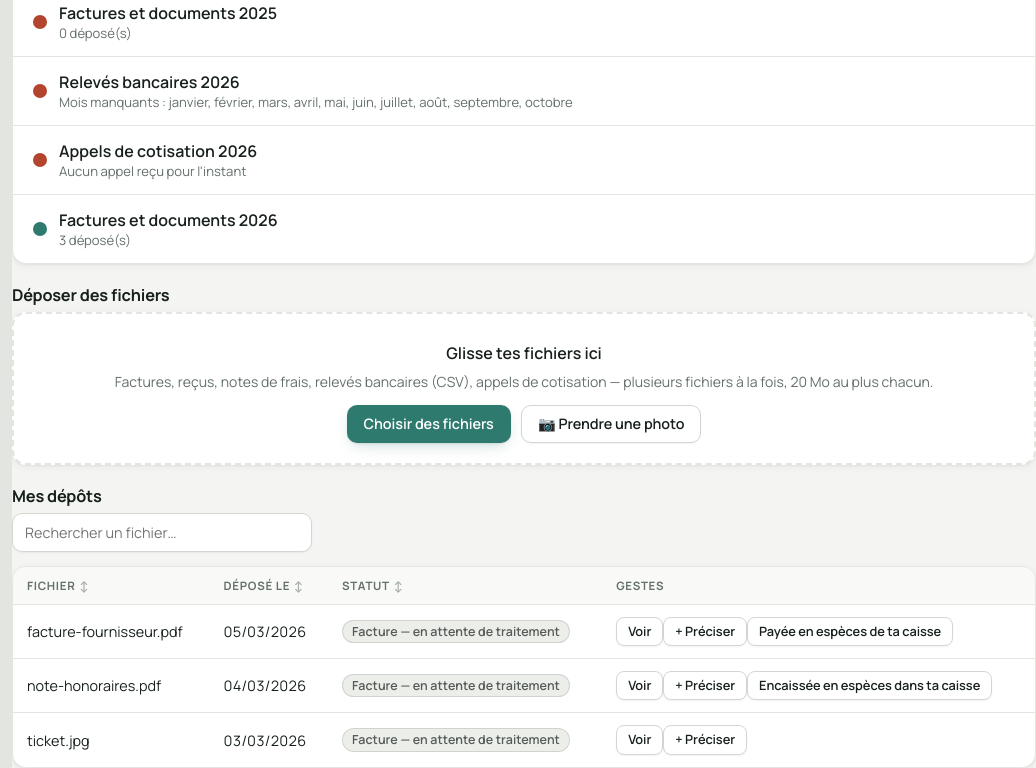
avec la case « Caisse » › les refus avant le clic : la caisse qui passerait sous zéro, un montant signé, une date d’avant la caisse lue
The width and height of the screenshot is (1036, 768).
(page scrolled)
Expected: the text "facture-fournisseur.pdf" is shown, [13,604,210,658]
Click the button "Payée en espèces de ta caisse": [850, 631] box [747,617,953,646]
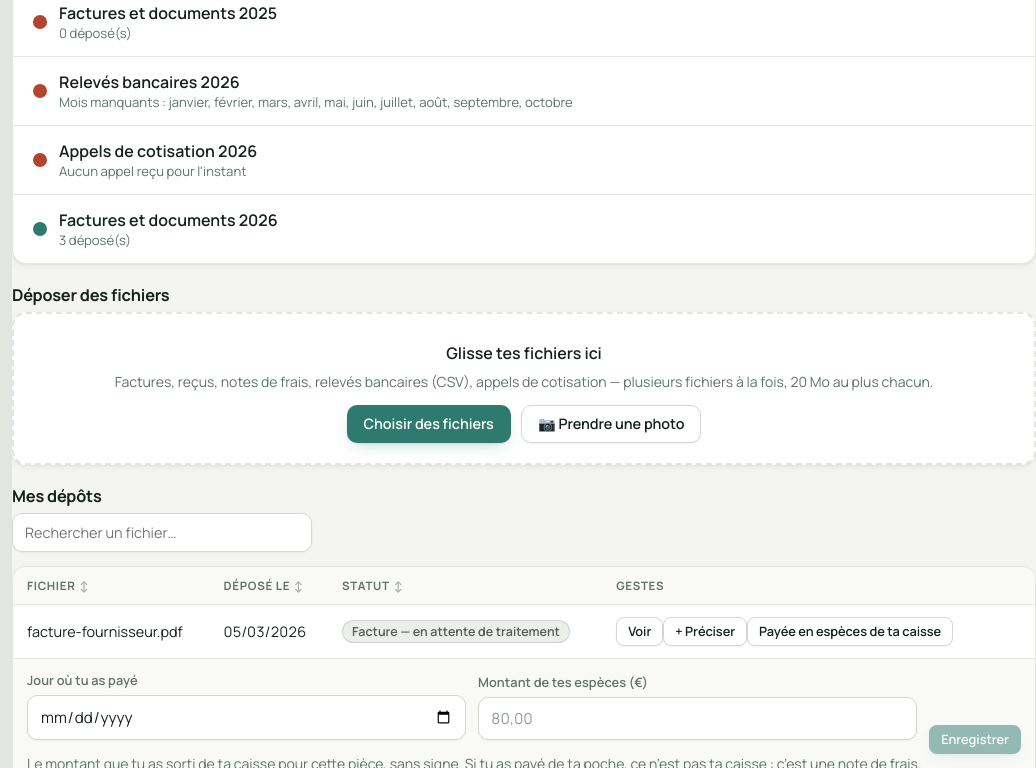
In the date field labelled "Jour où tu as payé": [247, 718] box [27,695,466,740], type "2026-03-12"
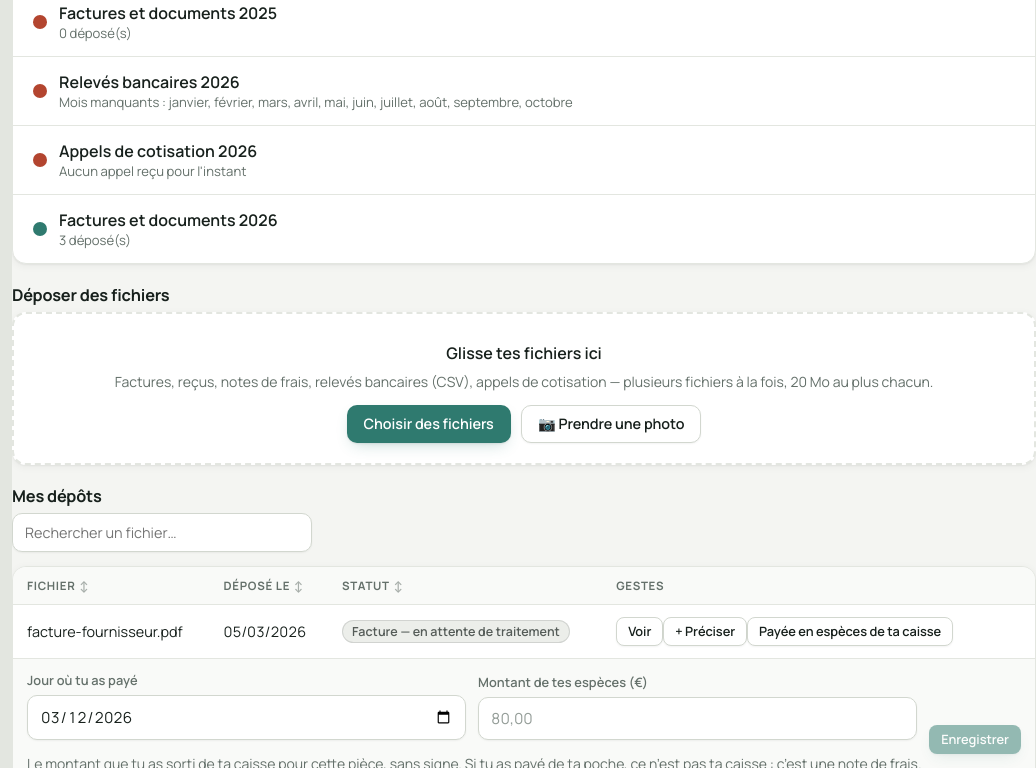
In the field labelled "Montant de tes espèces (€)": [698, 718] box [478,697,917,740], type "150"
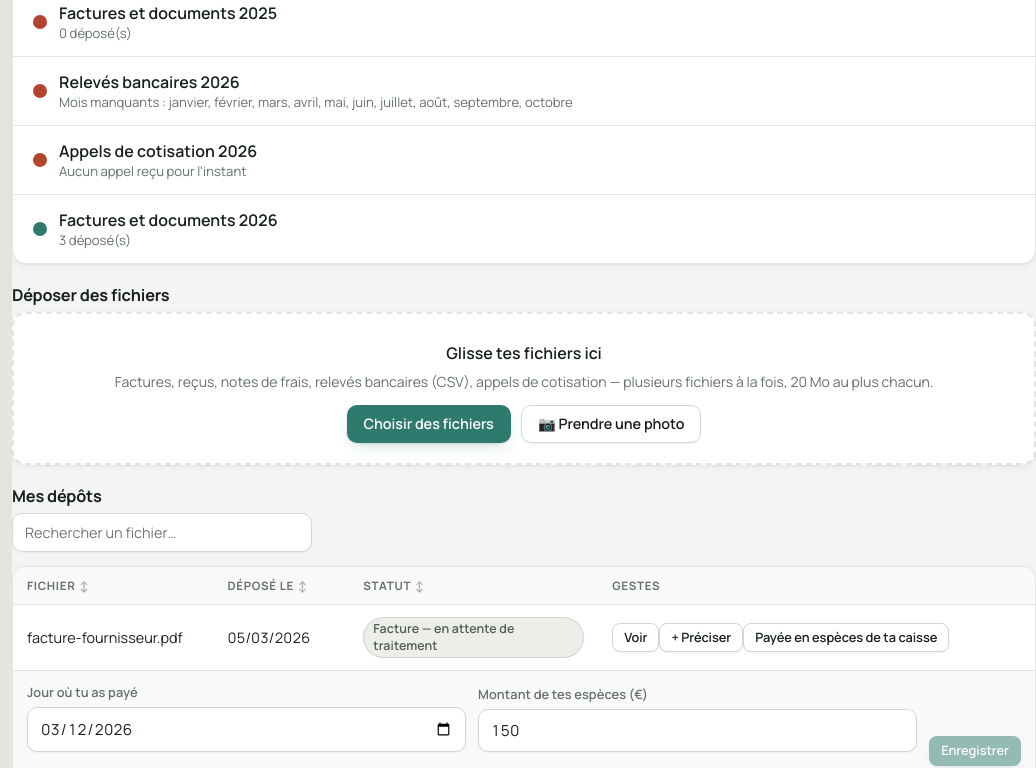
Expected: the button "Enregistrer" is disabled, [929,736,1021,766]
Replace the text in the field labelled "Montant de tes espèces (€)" with "-10": [698, 730] box [478,709,917,752]
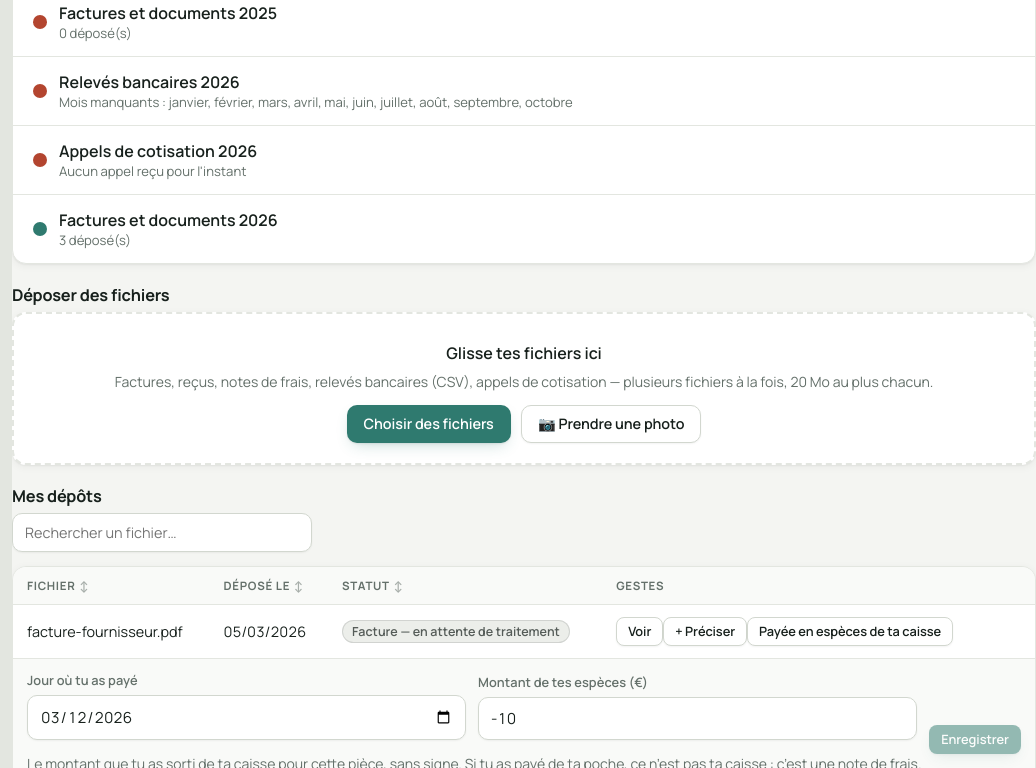
Replace the text in the field labelled "Montant de tes espèces (€)" with "10": [698, 718] box [478,697,917,740]
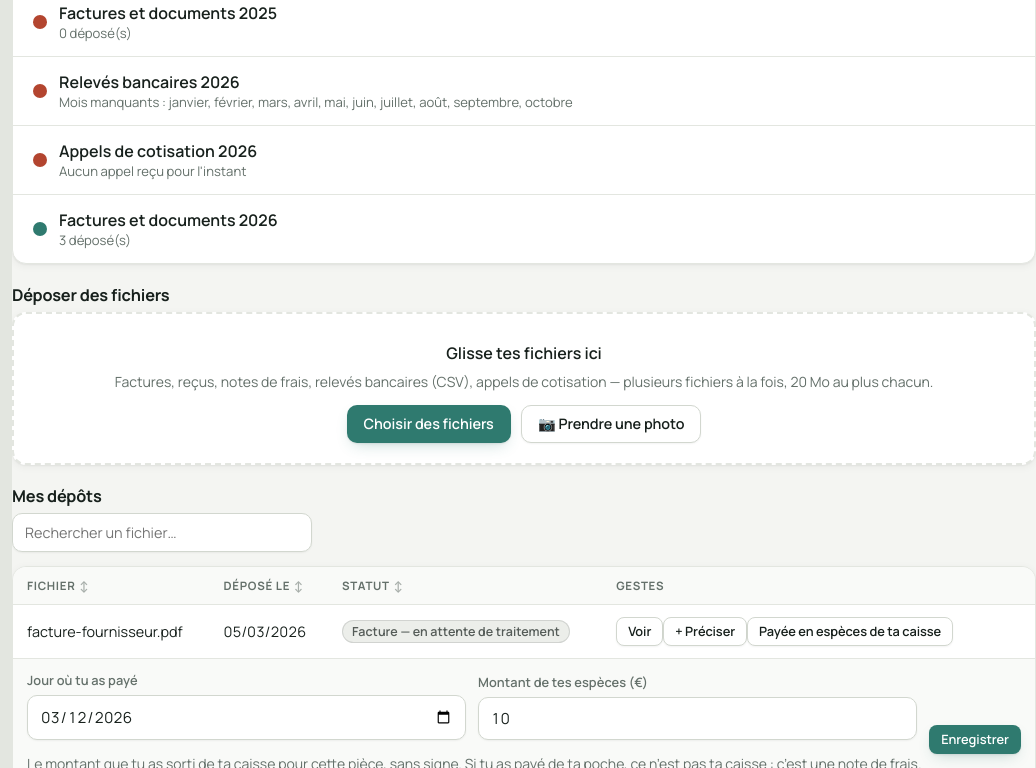
In the date field labelled "Jour où tu as payé": [247, 718] box [27,695,466,740], type "2024-12-31"
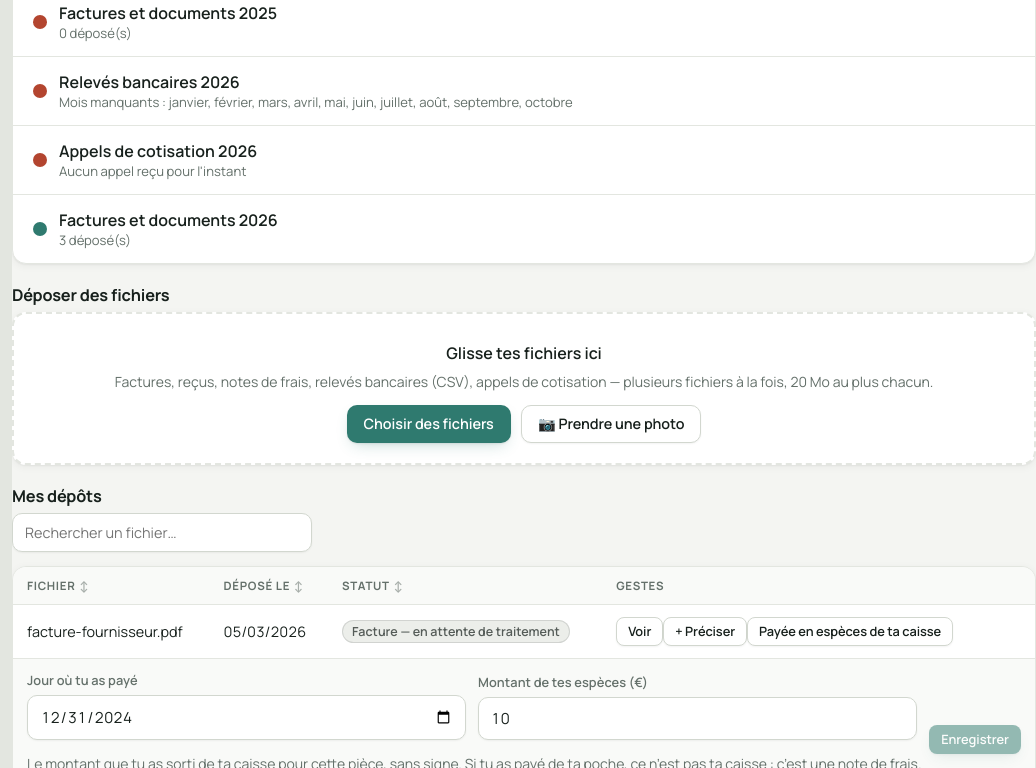
Expected: the button "Enregistrer" is disabled, [929,725,1021,754]
